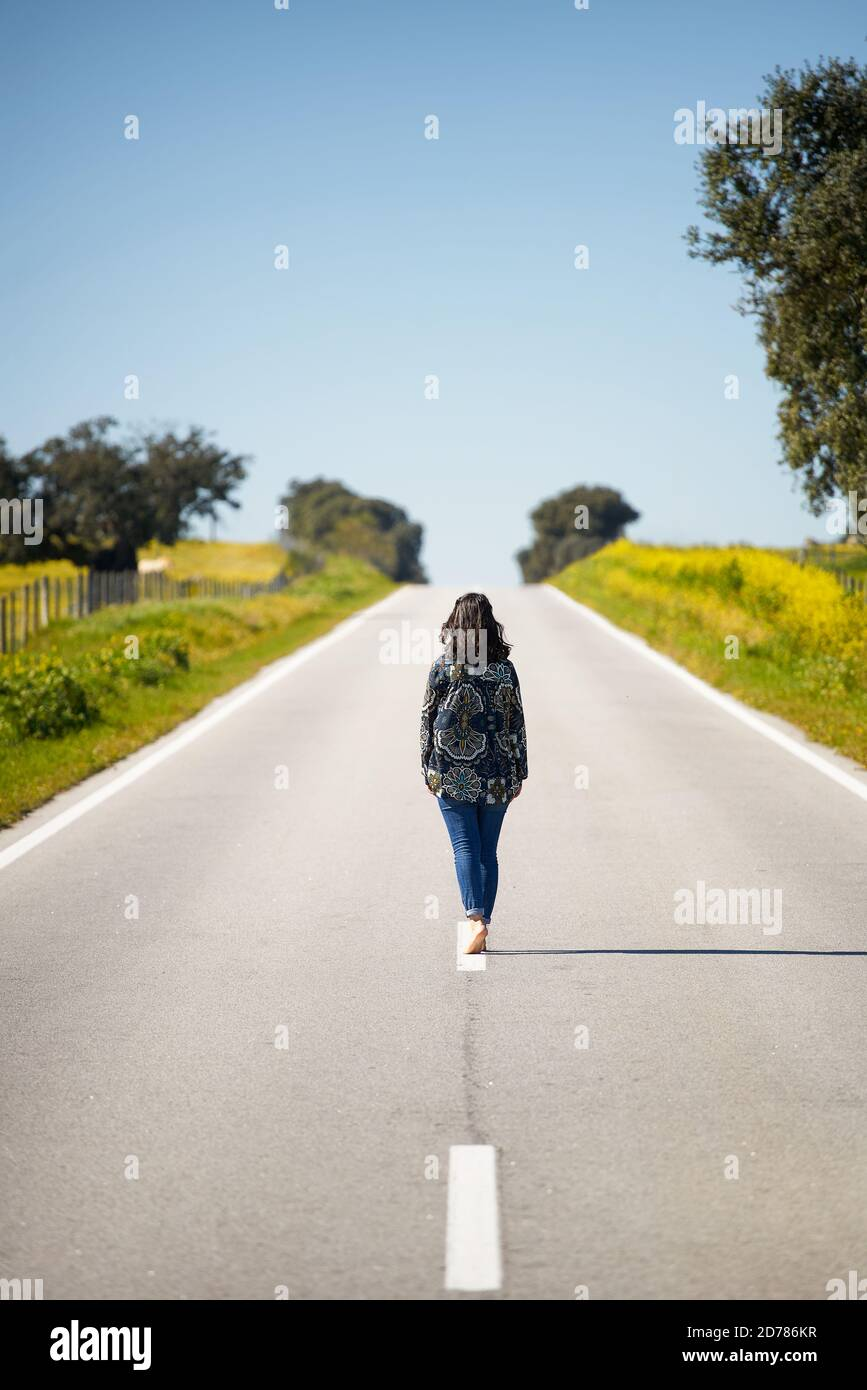Person: (394, 579, 546, 956)
